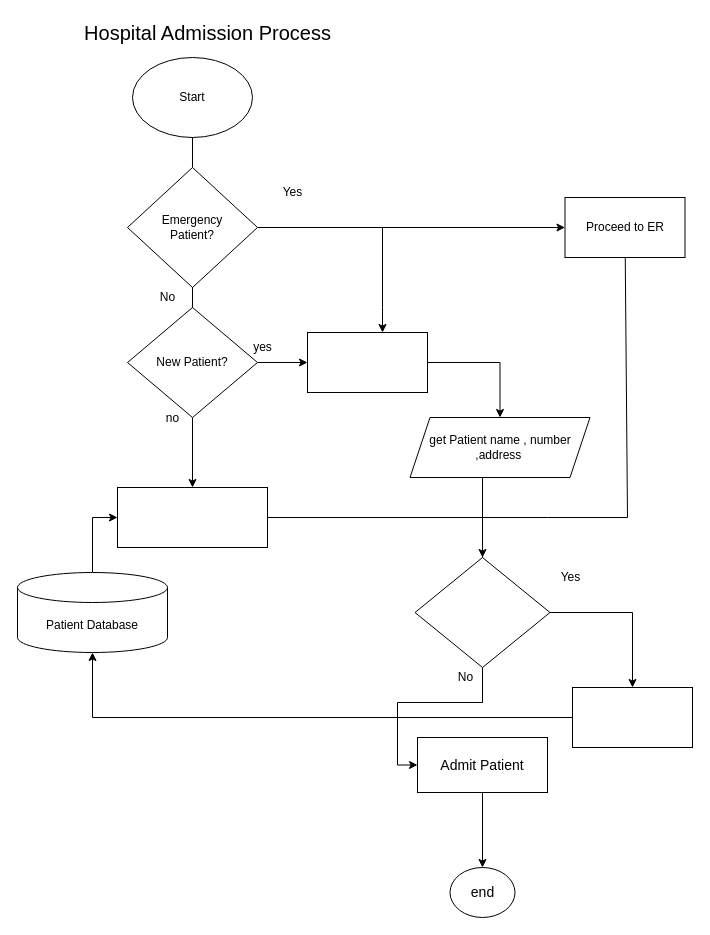
The diagram is 710 pixels wide and 935 high, and some of its shapes have lost their labels. Here are the shapes that lost their labels. From the top down, the centre of each, then its label:
At point 367,362: "Create new Patient Form".
At point 192,517: "Fetch Data from the database".
At point 482,612: "Need Diagnosis?".
At point 632,717: "Save Results".
